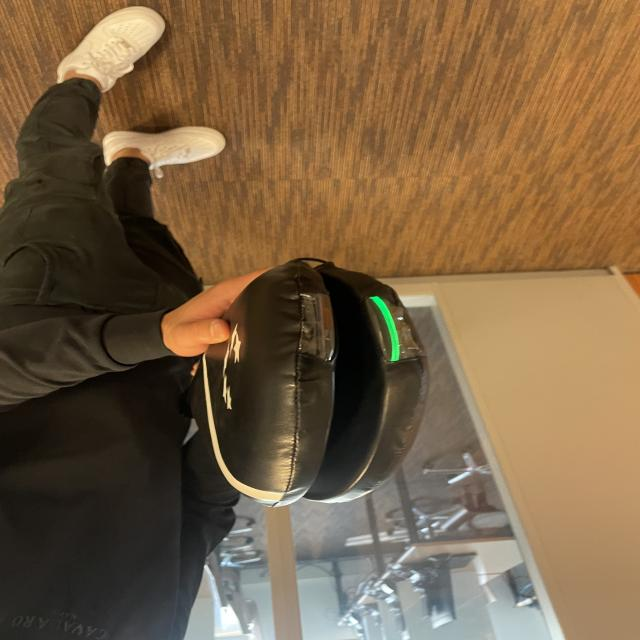paddle: (206, 267, 421, 500)
trigger: (366, 293, 405, 367)
